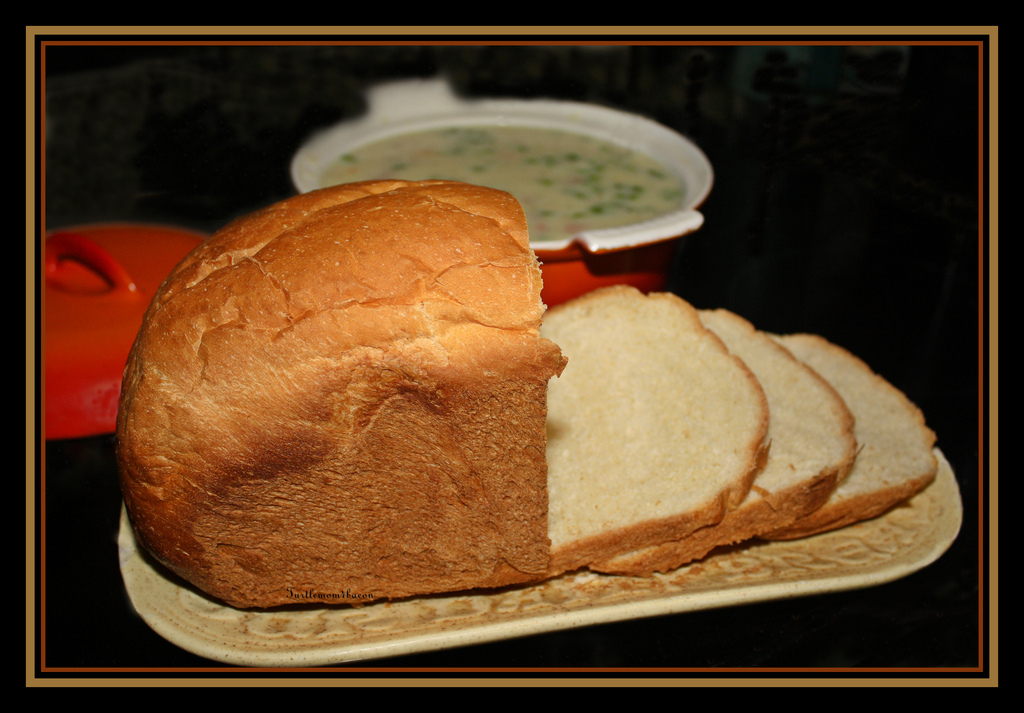slice of bread: (135, 189, 556, 605), (540, 298, 929, 567)
